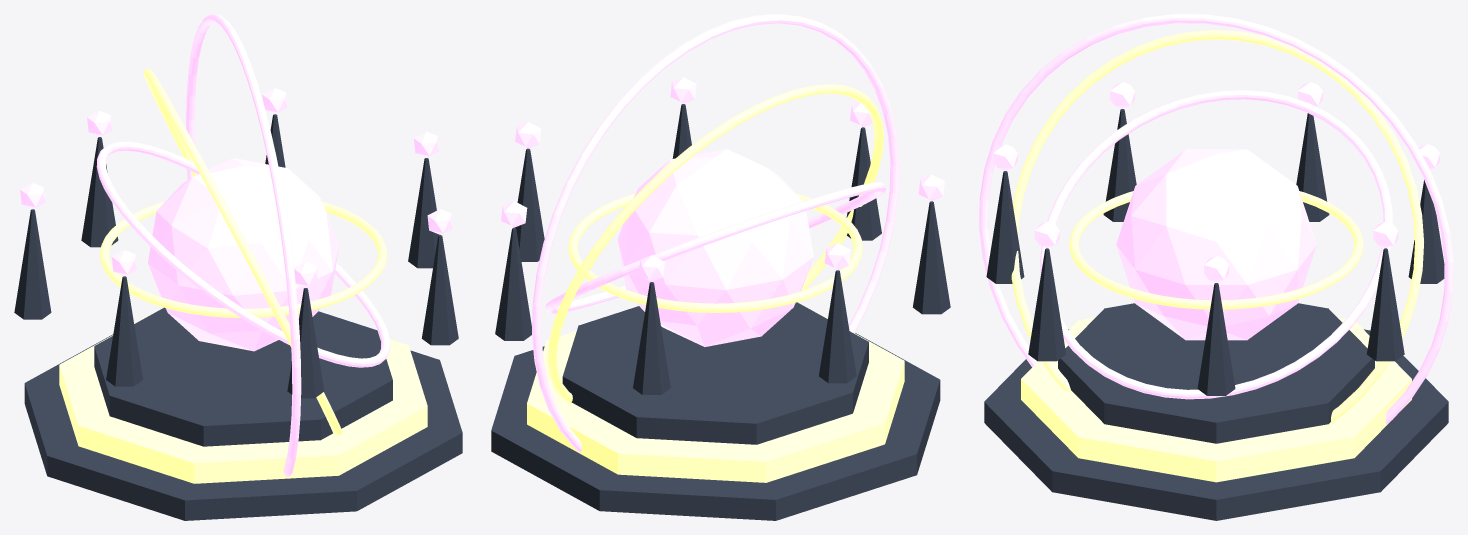
The model's file is gpu-blender-v22.glb.
3 renders of one model, left to right at view 1: azimuth 30°, elevation 25°; view 2: azimuth 150°, elevation 25°; view 3: azimuth 270°, elevation 25°, orthographic. The views are drawn at different scales.
Visible parts, largest first — view 1: Cylinder.002, SovereignCore_pod-margin-sentinel, Cylinder, Cylinder.001, Torus.003, Torus.001, Torus, Torus.002, Cone.003, Cone.006, Cone.004, Cone (+8 smaller); view 2: Cylinder.002, SovereignCore_pod-margin-sentinel, Cylinder, Cylinder.001, Torus.003, Torus.002, Torus.001, Torus, Cone.003, Cone.004, Cone.002, Cone.001 (+9 smaller); view 3: SovereignCore_pod-margin-sentinel, Cylinder.002, Cylinder, Cylinder.001, Torus.003, Torus.002, Torus.001, Torus, Cone.001, Cone.006, Cone, Cone.005 (+5 smaller).
Boxes of the visible parts, <box> form: Cylinder.002: <box>94,307,392,446</box>; SovereignCore_pod-margin-sentinel: <box>148,158,339,351</box>; Cylinder: <box>24,334,462,520</box>; Cylinder.001: <box>59,315,427,483</box>; Torus.003: <box>186,14,301,476</box>; Torus.001: <box>96,141,390,367</box>; Torus: <box>100,201,387,317</box>; Torus.002: <box>143,68,342,435</box>; Cone.003: <box>14,209,51,319</box>; Cone.006: <box>421,235,458,345</box>; Cone.004: <box>106,276,142,386</box>; Cone: <box>408,158,440,268</box>; Cylinder.002: <box>562,302,868,444</box>; SovereignCore_pod-margin-sentinel: <box>617,149,813,346</box>; Cylinder: <box>491,333,940,520</box>; Cylinder.001: <box>527,310,904,482</box>; Torus.003: <box>532,14,899,452</box>; Torus.002: <box>547,84,883,403</box>; Torus.001: <box>545,182,885,313</box>; Torus: <box>568,193,862,312</box>; Cone.003: <box>819,270,856,383</box>; Cone.004: <box>912,201,950,314</box>; Cone.002: <box>633,282,670,394</box>; Cone.001: <box>495,228,531,340</box>; SovereignCore_pod-margin-sentinel: <box>1116,149,1316,340</box>; Cylinder.002: <box>1058,303,1374,443</box>; Cylinder: <box>984,329,1448,520</box>; Cylinder.001: <box>1021,317,1411,482</box>; Torus.003: <box>979,14,1453,424</box>; Torus.002: <box>1011,30,1423,422</box>; Torus.001: <box>1040,90,1392,399</box>; Torus: <box>1069,191,1363,309</box>; Cone.001: <box>1366,248,1404,361</box>; Cone.006: <box>1028,248,1066,361</box>; Cone: <box>1197,283,1235,395</box>; Cone.005: <box>986,171,1024,283</box>.
Bounding box in the file's own units: 4.41 × 4.7 × 4.49.
